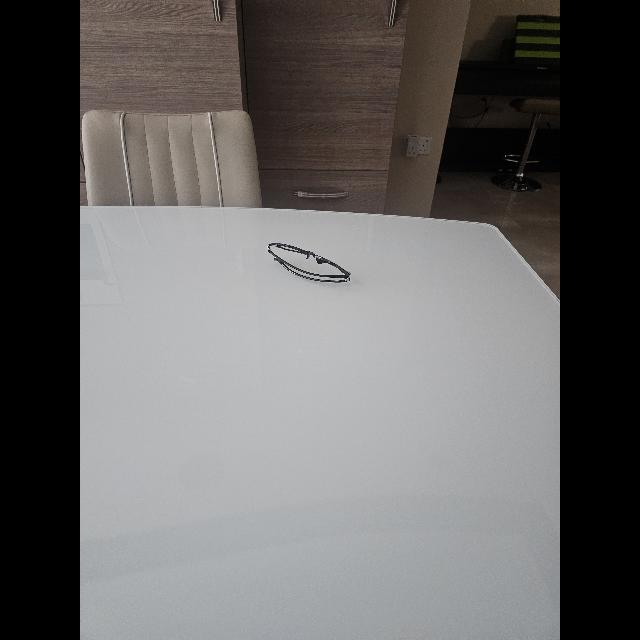glasses: (268, 242, 350, 282)
